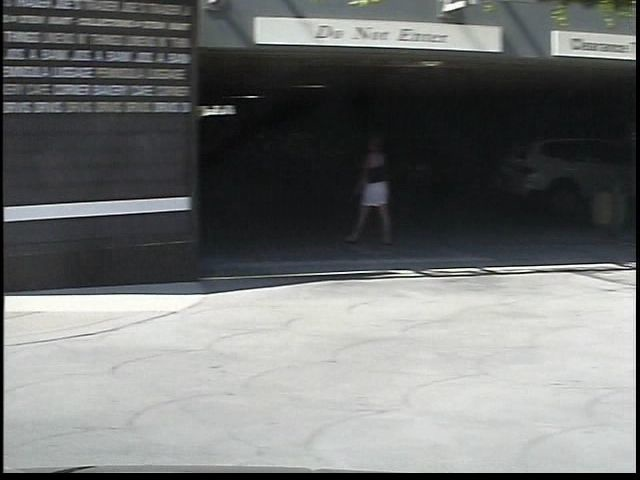person: (329, 133, 384, 252)
